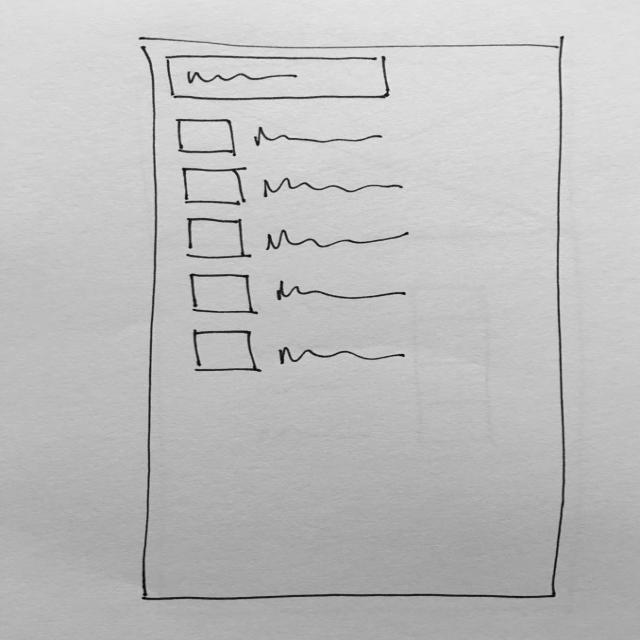checkbox: (182, 217, 417, 265), (186, 327, 412, 376), (187, 272, 416, 318), (178, 165, 410, 209), (173, 116, 391, 158)
container: (128, 34, 578, 606)
input: (162, 52, 397, 105)
